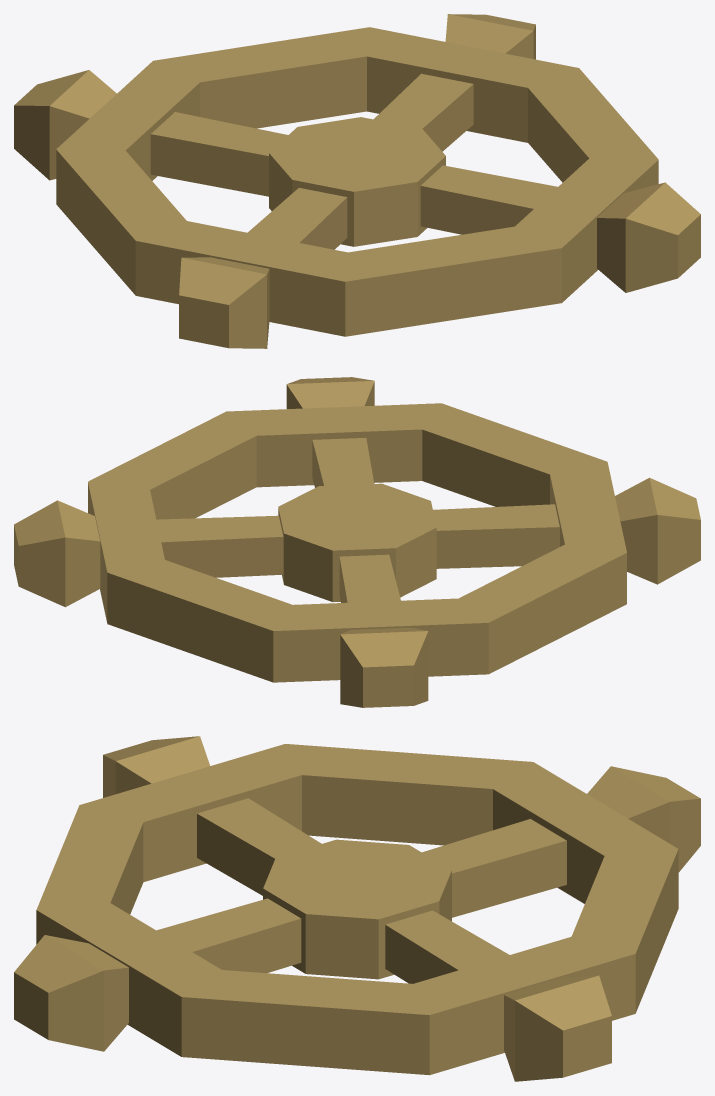
File: balloonSpinner.fbx
3 renders of one model, top to bottom at view 1: azimuth 30°, elevation 25°; view 2: azimuth 150°, elevation 25°; view 3: azimuth 270°, elevation 25°, orthographic. The views are drawn at different scales.
Visible parts, largest first — view 1: balloonSpinner; view 2: balloonSpinner; view 3: balloonSpinner.
Boxes of the visible parts, x1=… form: balloonSpinner: x1=14, y1=14, x2=700, y2=348; balloonSpinner: x1=14, y1=377, x2=700, y2=707; balloonSpinner: x1=14, y1=736, x2=700, y2=1081.
Size of the model in its own units: 1.59 by 0.2076 by 1.59.
